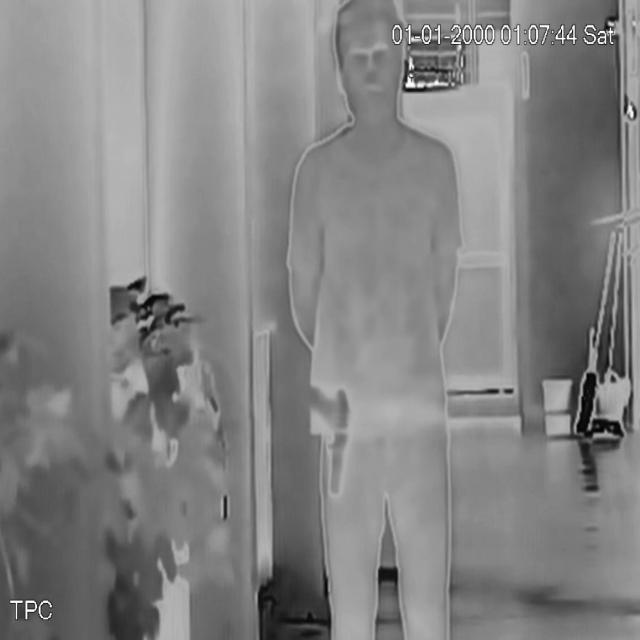Weapon: (306, 381, 368, 501)
